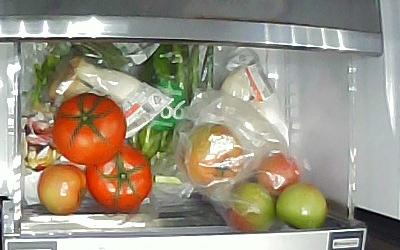tomato: (50, 91, 127, 165), (84, 142, 153, 211), (36, 162, 86, 214), (275, 180, 327, 230)
tomato_vinyl: (183, 122, 244, 186), (224, 179, 274, 232), (254, 151, 301, 196)
